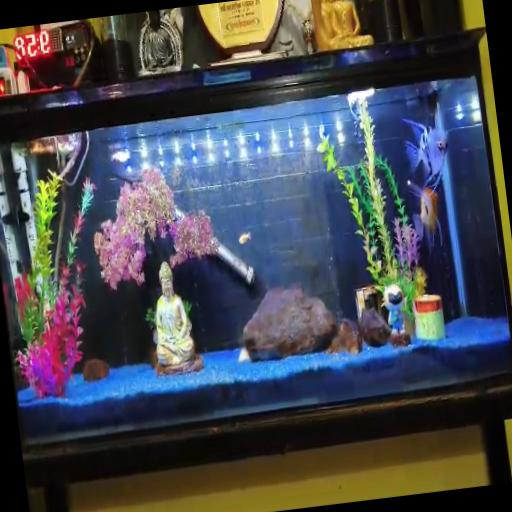Fish: (404, 120, 447, 191), (407, 181, 442, 249), (238, 233, 250, 245)
